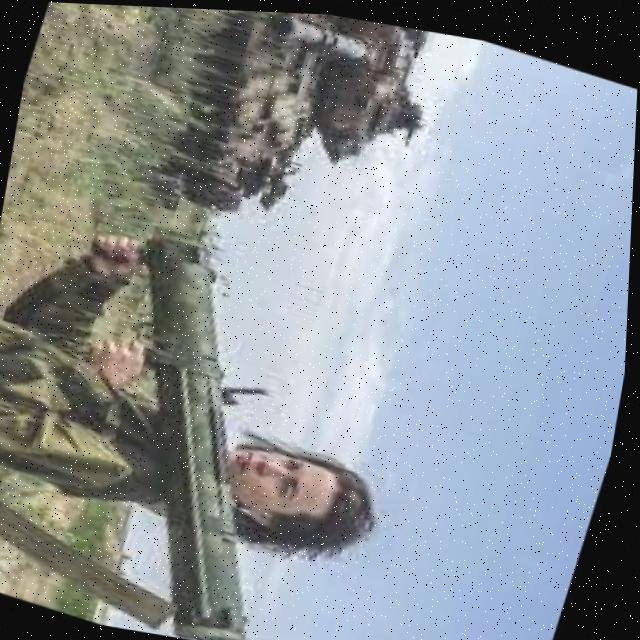rocket: (34, 213, 371, 640)
